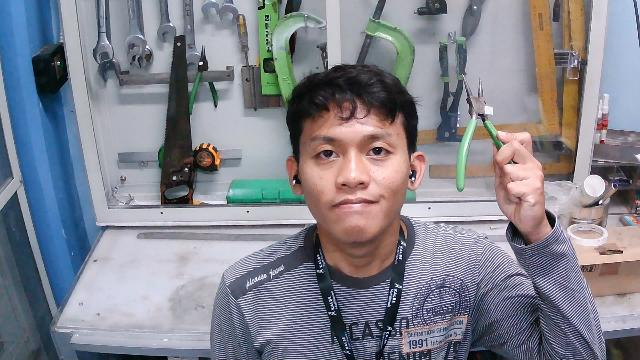tang_cucut_lancip_1: (444, 70, 524, 197)
